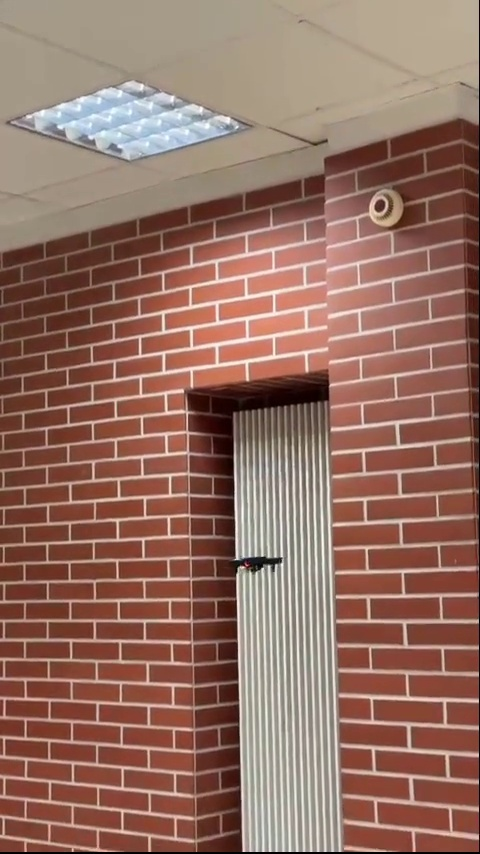drone: (227, 554, 285, 578)
